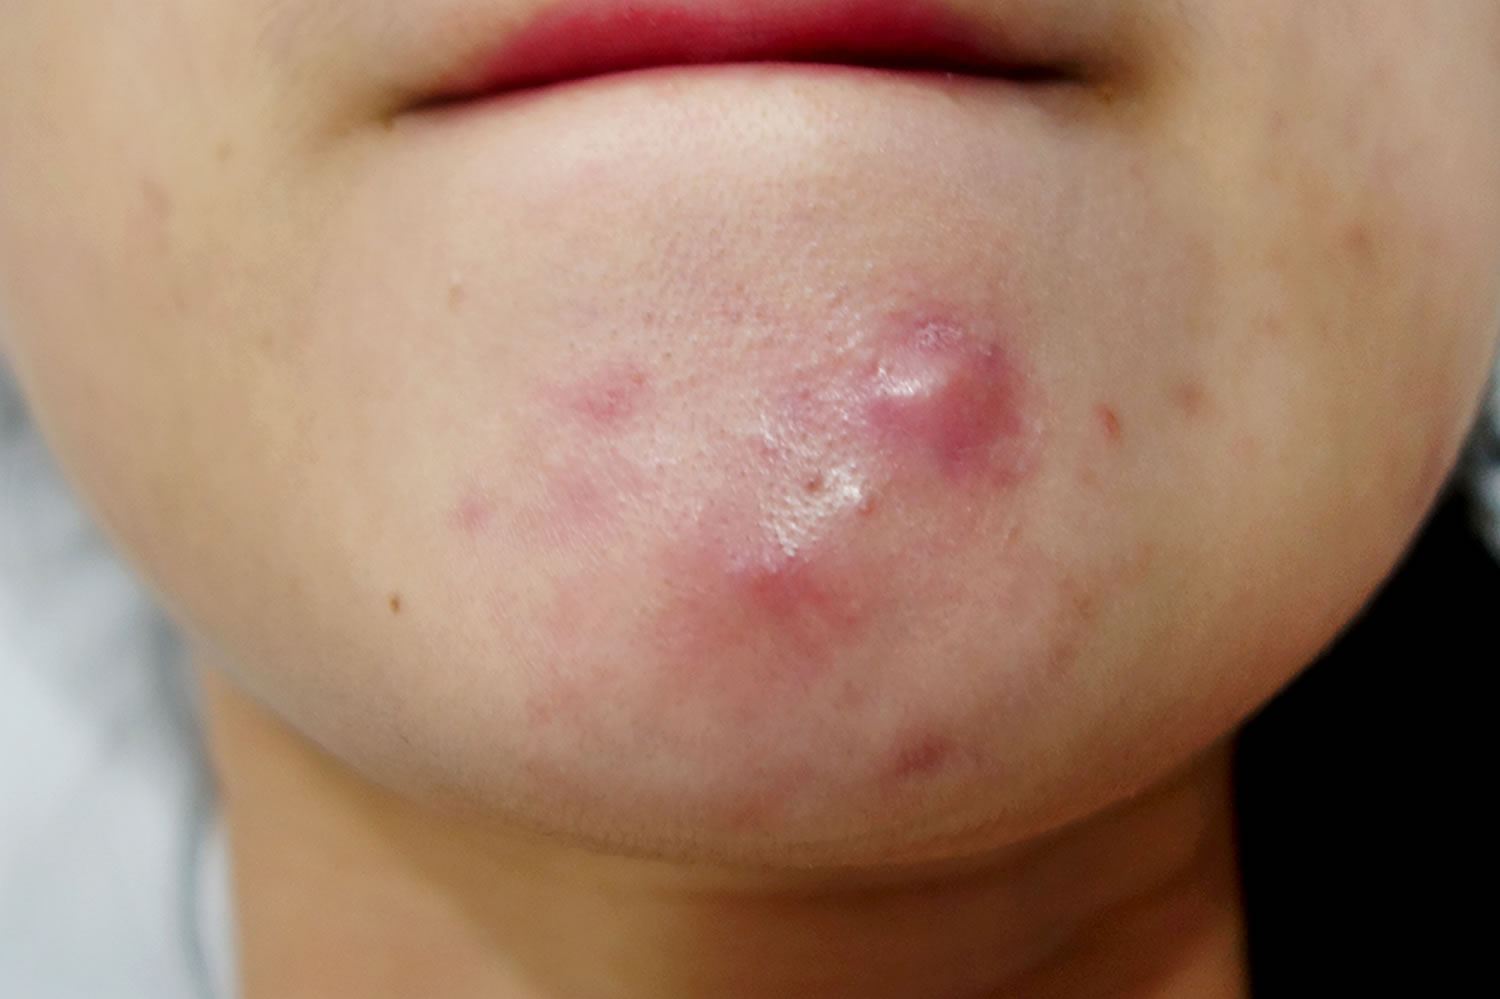jerawat: (493, 270, 1188, 808)
